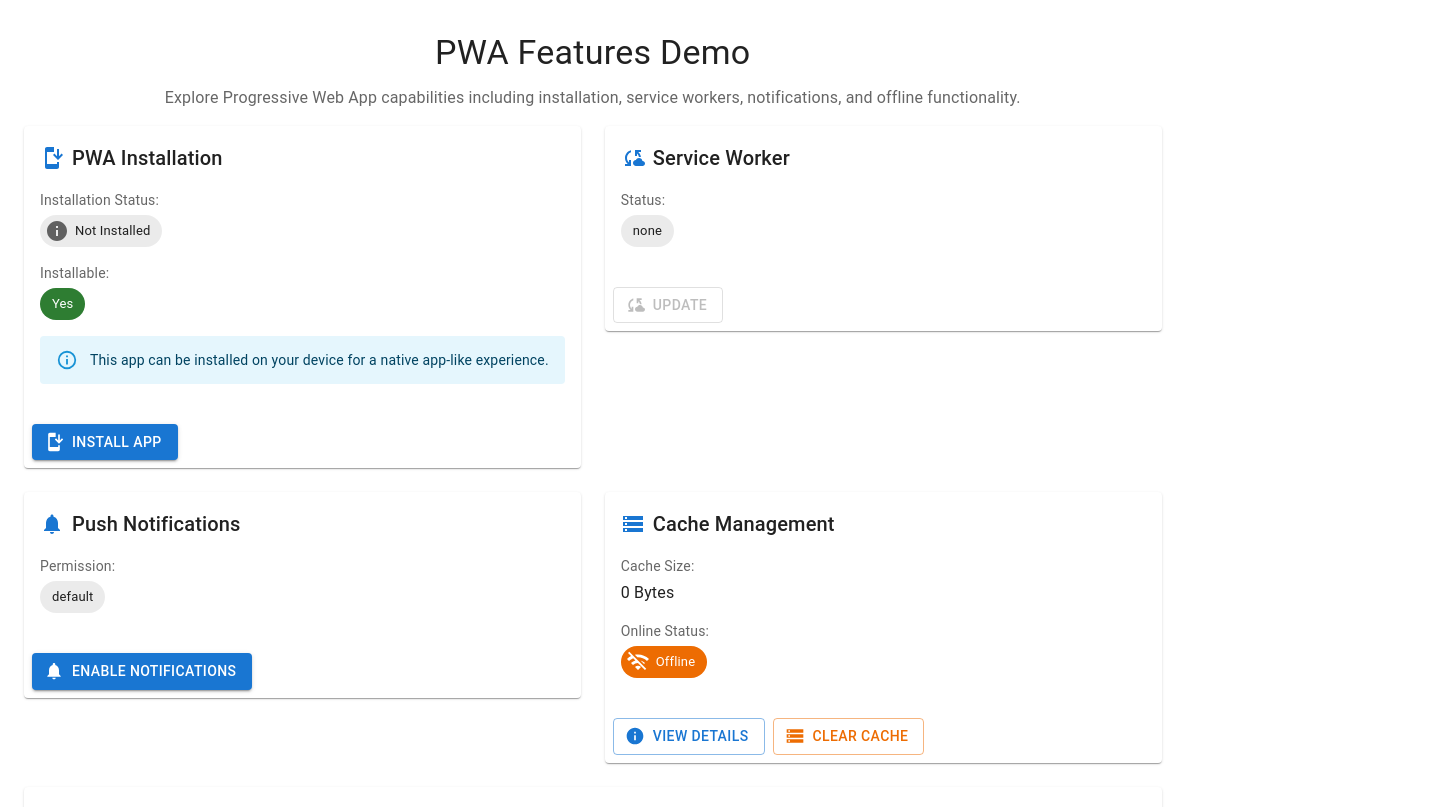
Scenario: PWAFeaturesDemo › opens install dialog when install button is clicked
The width and height of the screenshot is (1440, 807).
Click the button "Install App" at (105, 442), box x1=32 y1=424 x2=178 y2=460
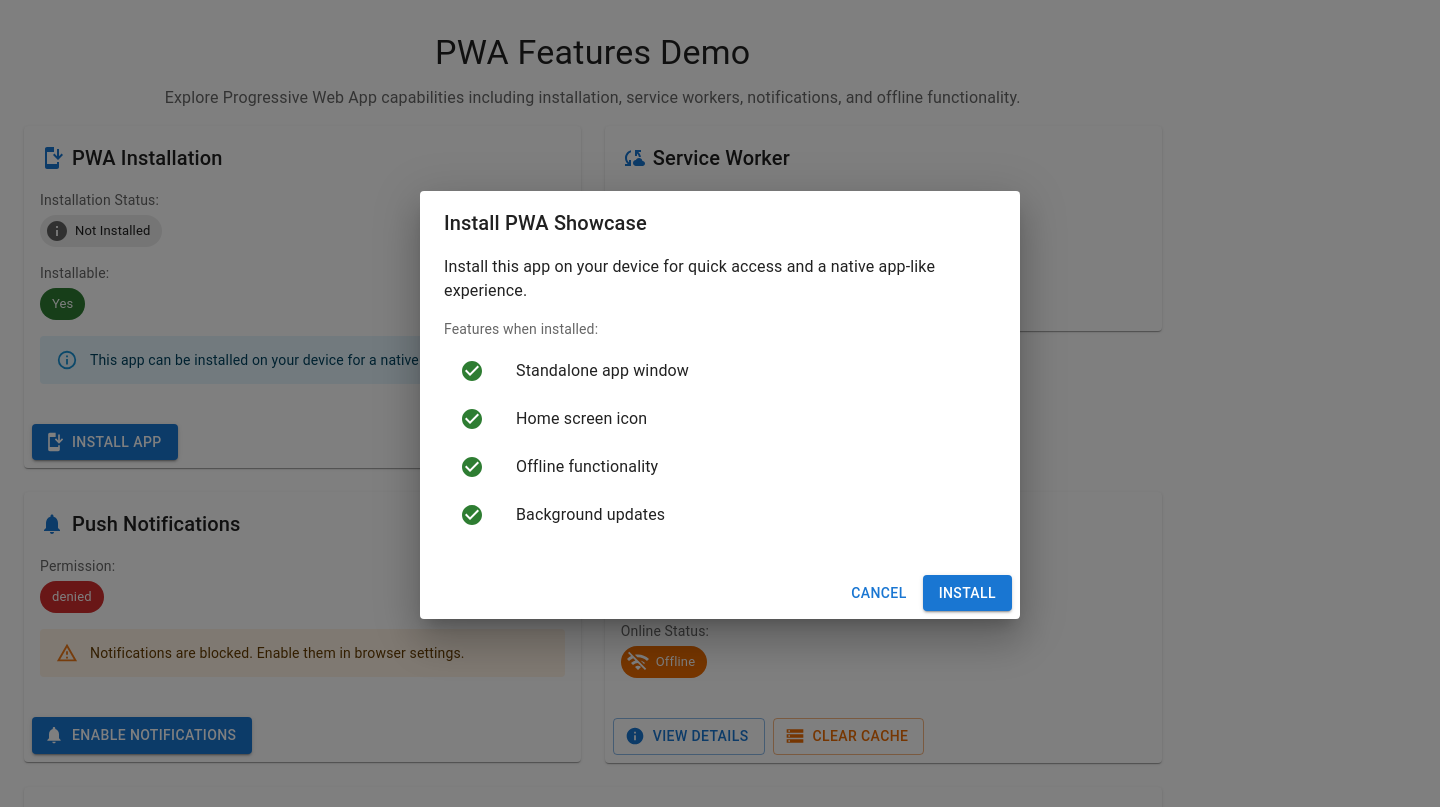
Check: the heading "Install PWA Showcase" is shown, box x1=444 y1=211 x2=647 y2=235
